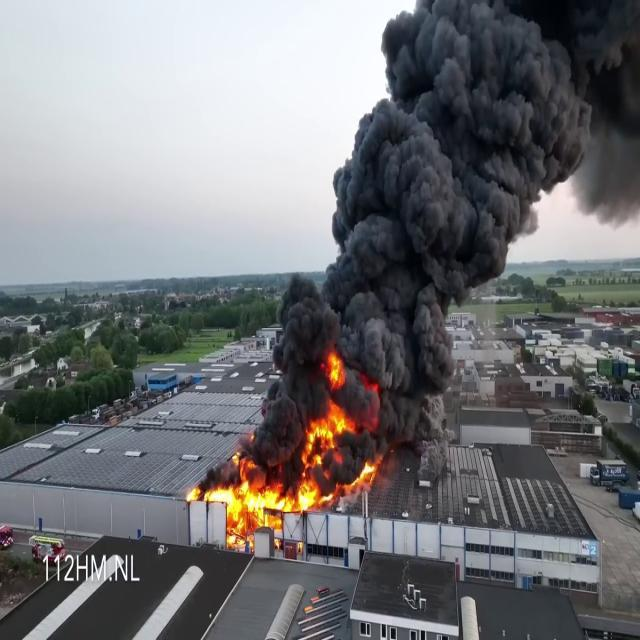Fire: (187, 459, 318, 547), (308, 346, 360, 446)
Smoke: (240, 1, 640, 447)
